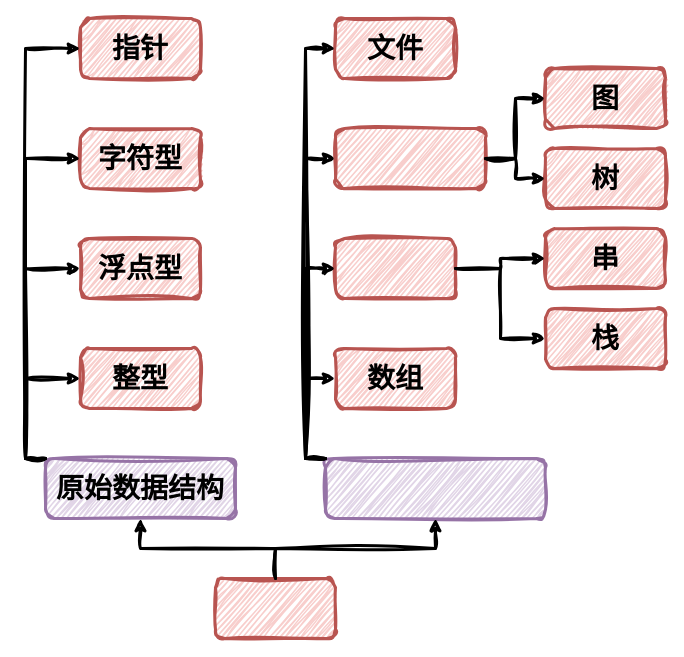
The diagram is 684 pixels wide and 657 high, and some of its shapes have lost their labels. Each missing label, with the box of its shape:
数据结构: (214, 576, 336, 640)
线性结构: (334, 236, 456, 300)
非原始数据结构: (324, 456, 546, 520)
非线性结构: (334, 126, 486, 190)
